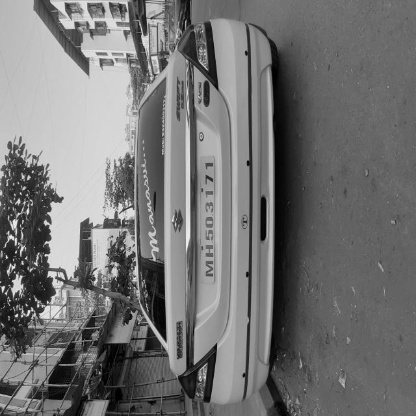car: (6, 278, 194, 416)
